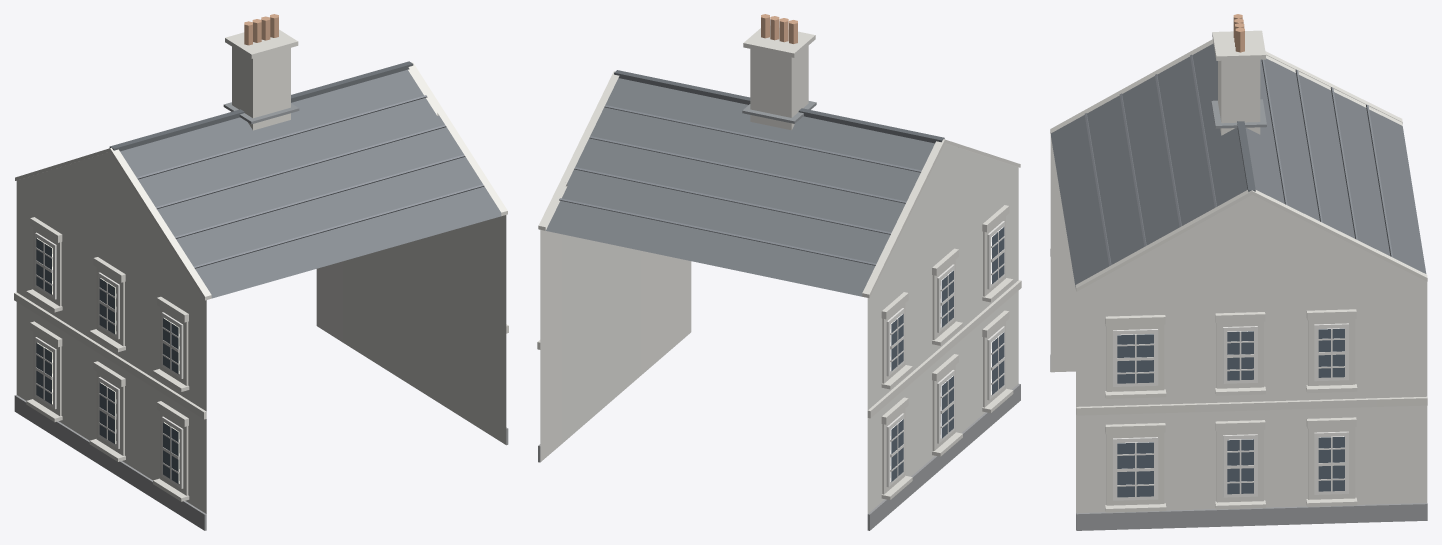
The picture shows the model from 3 angles, left to right: view 1: azimuth 30°, elevation 25°; view 2: azimuth 150°, elevation 25°; view 3: azimuth 270°, elevation 25°; orthographic projection. The views are drawn at different scales.
Parts seen in each view (by area): view 1: harl, slate, string, frame, chim_render, slate_lt, plinth, slate_dk, pot, window_glass_001, window_glass_003, window_glass_005 (+3 smaller); view 2: slate, harl, string, slate_lt, chim_render, frame, plinth, slate_dk, pot, window_glass_001, window_glass_003, window_glass_005 (+3 smaller); view 3: harl, slate, string, frame, plinth, slate_lt, chim_render, window_glass_007, window_glass_008, window_glass_009, window_glass_011, window_glass_010 (+3 smaller).
Boxes of the visible parts, x1,y1,x2,y2 form: harl: [16, 152, 506, 513]; slate: [120, 70, 501, 298]; string: [14, 29, 508, 501]; frame: [35, 232, 183, 488]; chim_render: [232, 47, 290, 130]; slate_lt: [136, 95, 484, 268]; plinth: [14, 395, 508, 530]; slate_dk: [109, 61, 413, 151]; pot: [244, 14, 278, 45]; window_glass_001: [36, 343, 52, 404]; window_glass_003: [99, 382, 115, 444]; window_glass_005: [163, 422, 179, 483]; slate: [546, 78, 934, 296]; harl: [540, 143, 1018, 513]; string: [537, 26, 1021, 500]; slate_lt: [559, 105, 921, 265]; chim_render: [750, 46, 808, 130]; frame: [886, 221, 1004, 487]; plinth: [538, 384, 1020, 530]; slate_dk: [614, 70, 944, 143]; pot: [761, 14, 797, 43]; window_glass_001: [890, 419, 903, 481]; window_glass_003: [941, 375, 953, 438]; window_glass_005: [991, 332, 1004, 394]; harl: [1050, 136, 1427, 513]; slate: [1051, 43, 1426, 286]; string: [1050, 30, 1427, 512]; frame: [1113, 323, 1348, 500]; plinth: [1050, 354, 1427, 530]; slate_lt: [1084, 54, 1393, 265]; chim_render: [1218, 59, 1260, 135]; window_glass_007: [1117, 442, 1153, 497]; window_glass_008: [1117, 334, 1153, 383]; window_glass_009: [1227, 439, 1253, 494]; window_glass_011: [1318, 436, 1344, 491]; window_glass_010: [1227, 331, 1253, 380].
Bounding box in the file's own units: 10.03 × 11.34 × 9.17.
